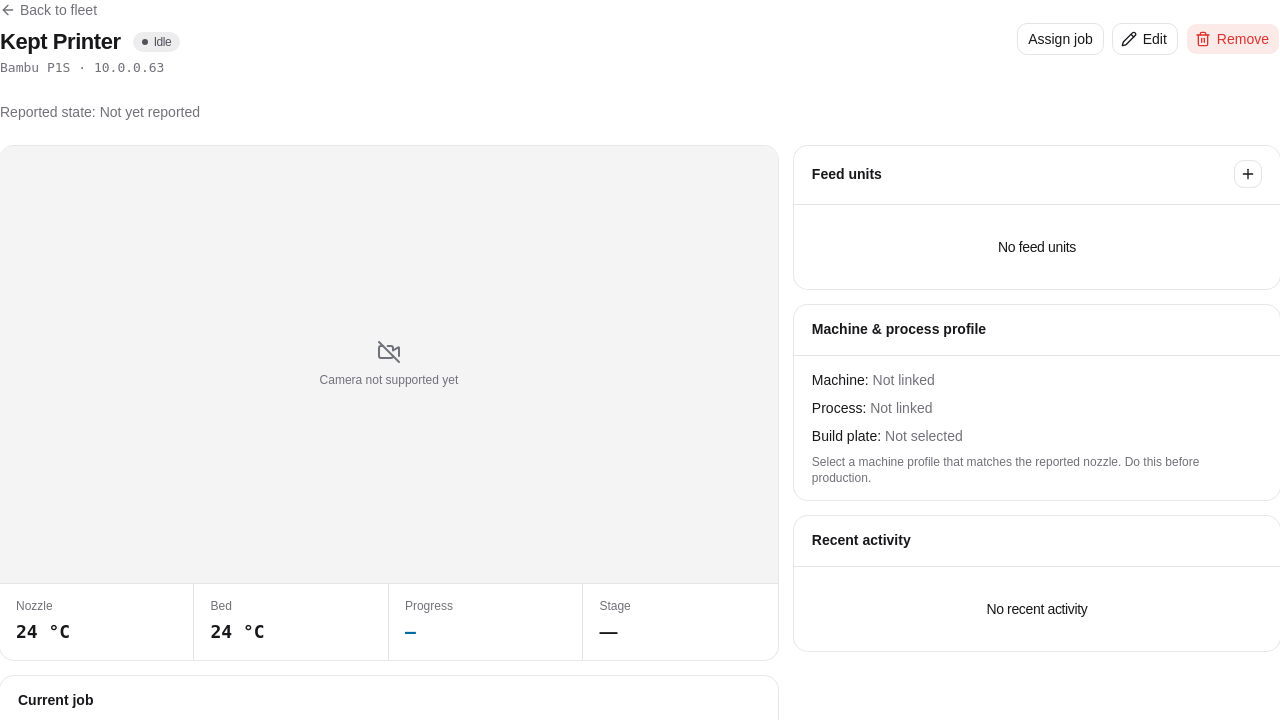
Test: PrinterDetailPage › does not remove the printer when the confirmation is declined
expect the text "Kept Printer" is shown: met, box [0, 29, 121, 54]
Click the button "Remove". click: point(1233, 39)
box: [1186, 23, 1279, 55]
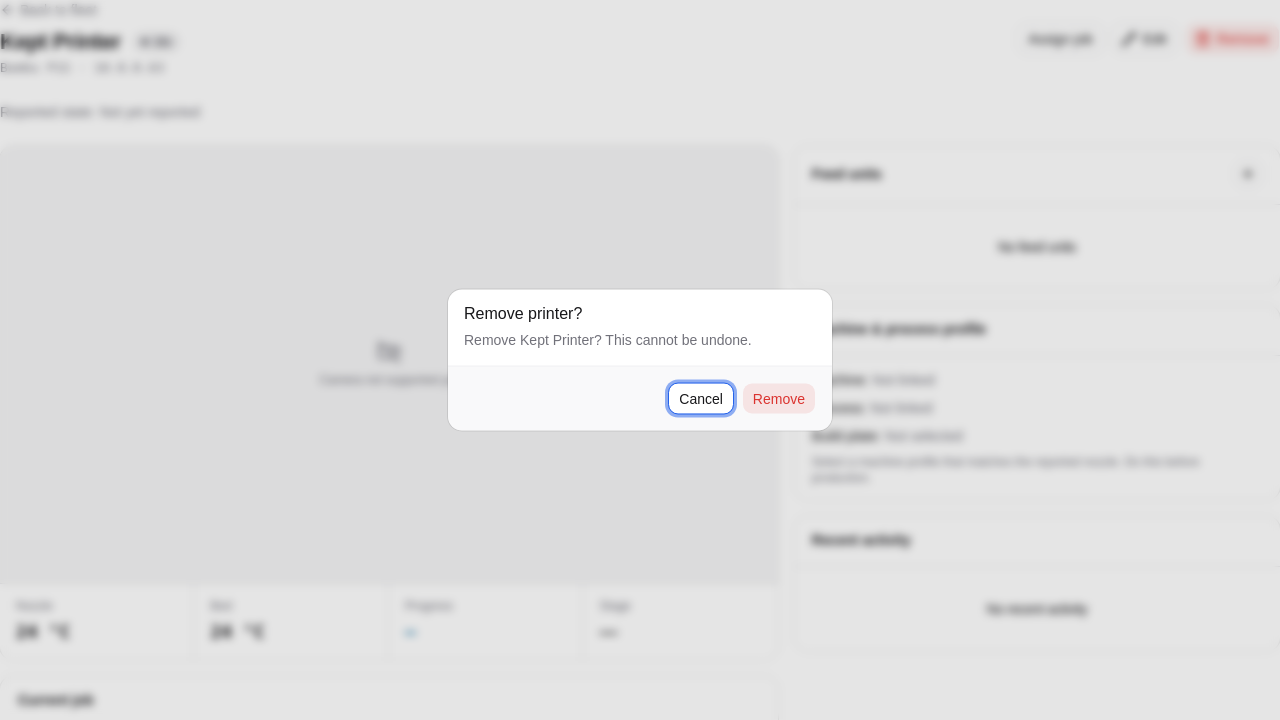
expect the heading "Remove printer?" is shown: met, box [464, 304, 582, 322]
Click the button "Cancel". click: point(701, 398)
box: [668, 382, 734, 414]
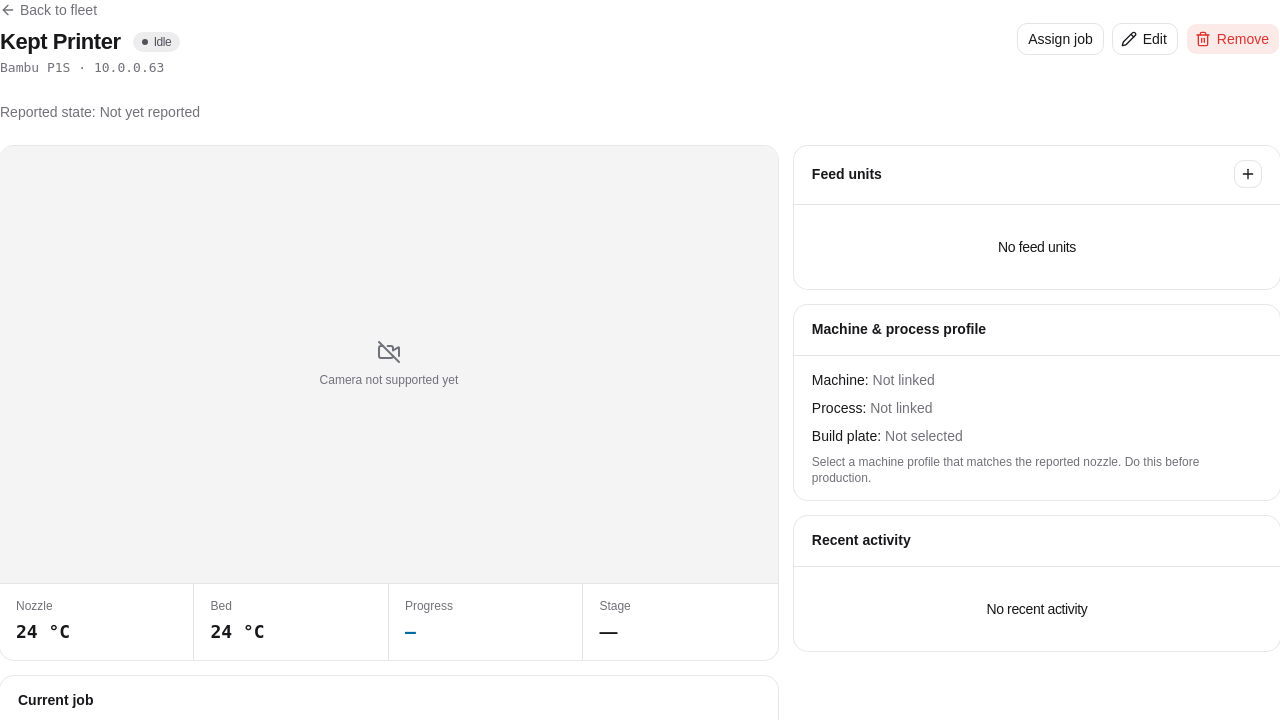
expect the text "Kept Printer" is shown: met, box [0, 29, 121, 54]
expect the dialog is gone: met
